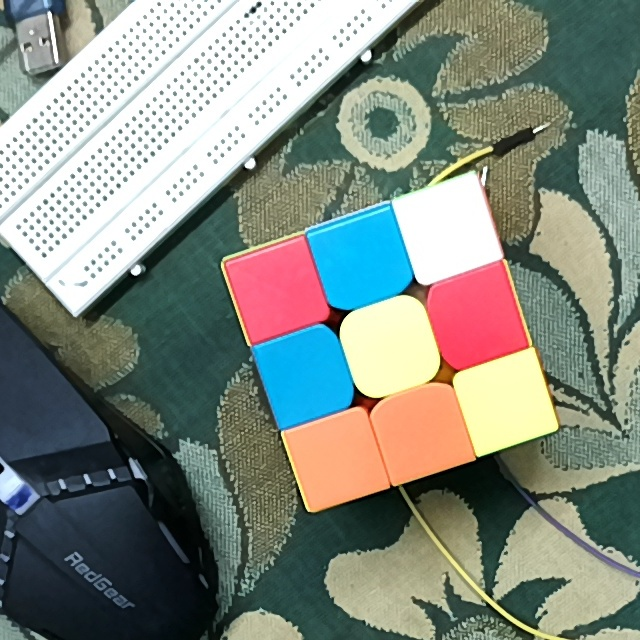tile: (446, 283, 518, 353), (414, 200, 481, 266), (273, 344, 339, 411), (389, 400, 454, 465), (361, 311, 423, 379), (331, 229, 395, 293), (246, 257, 309, 322), (308, 425, 368, 491), (476, 370, 537, 434)
